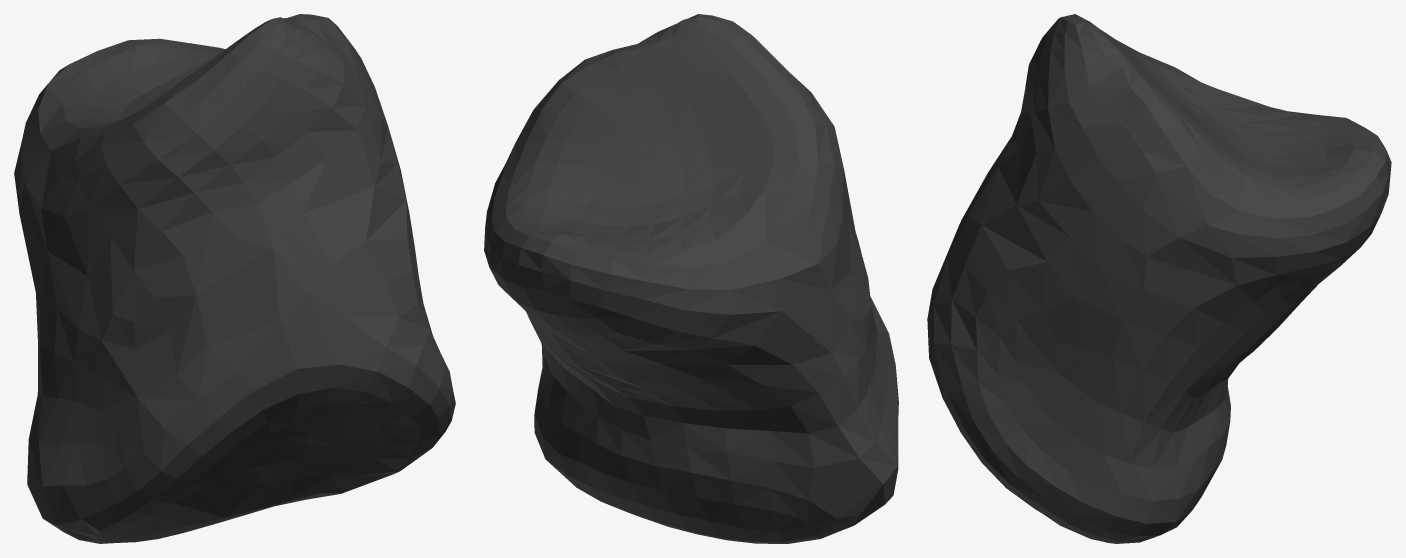
The picture shows the model from 3 angles, left to right: view 1: azimuth 30°, elevation 25°; view 2: azimuth 150°, elevation 25°; view 3: azimuth 270°, elevation 25°; orthographic projection. The views are drawn at different scales.
Parts seen in each view (by area): view 1: HL_P2_R; view 2: HL_P2_R; view 3: HL_P2_R.
Part boxes in pixels (box(x1,y1,x2,y2)): HL_P2_R: box(14, 14, 455, 543); HL_P2_R: box(484, 14, 898, 543); HL_P2_R: box(927, 14, 1391, 543).
Size of the model in its own units: 0.0812 by 0.1051 by 0.09.
Materials: 1 (1 with a texture image).
